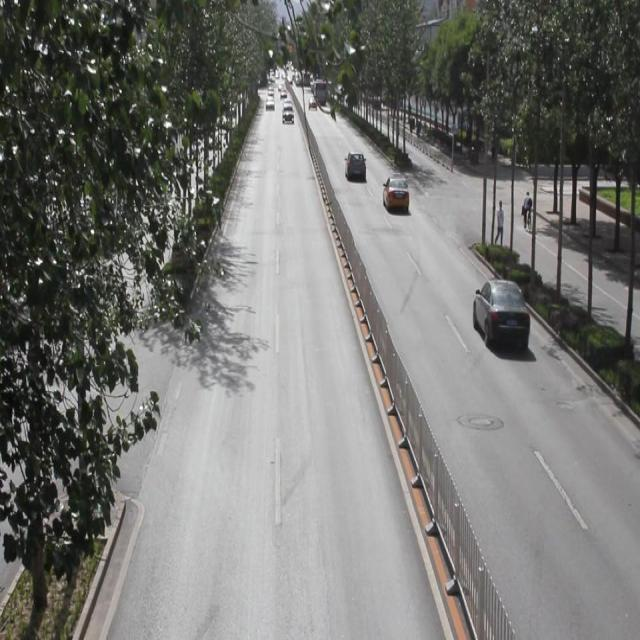car: (472, 275, 528, 347), (382, 170, 409, 213), (344, 148, 366, 183)
